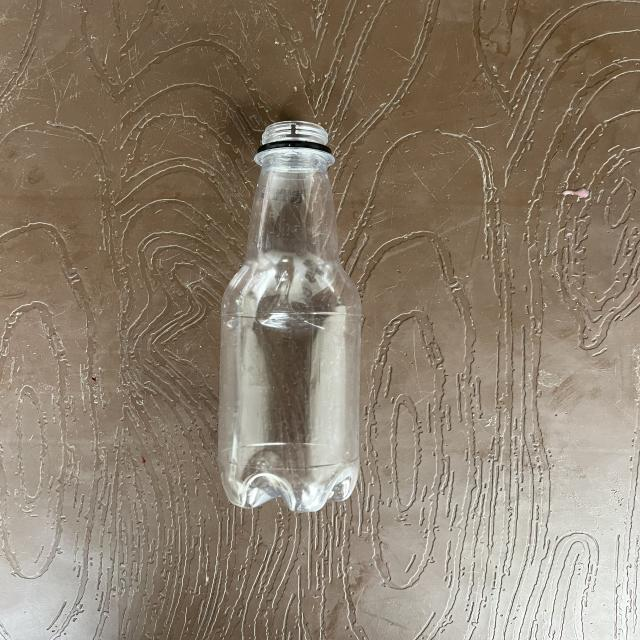PET_With_Cap: (212, 122, 356, 559)
